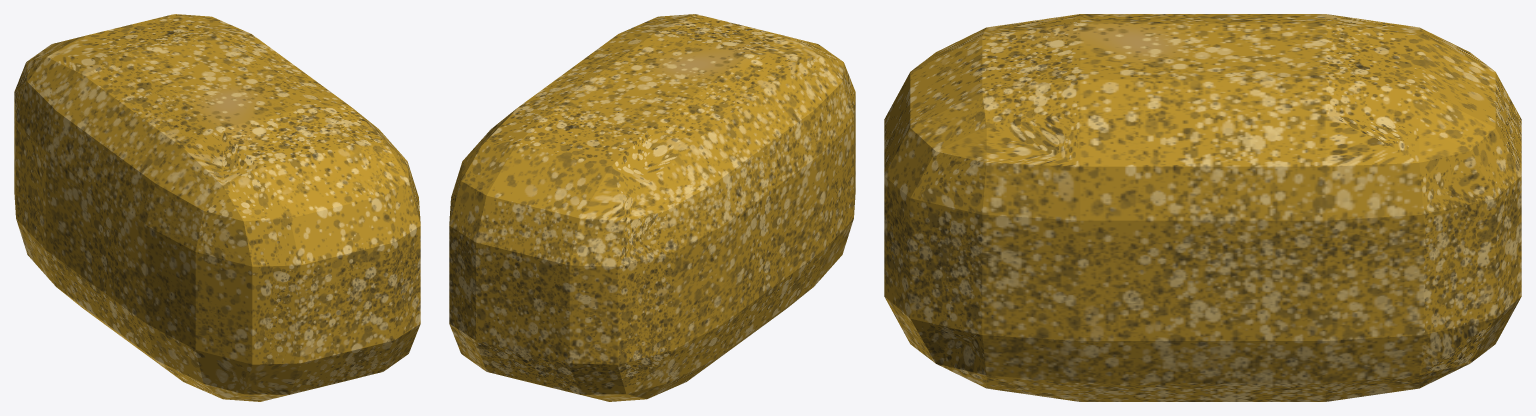
File: Croqueta.fbx
The picture shows the model from 3 angles, left to right: view 1: azimuth 30°, elevation 25°; view 2: azimuth 150°, elevation 25°; view 3: azimuth 270°, elevation 25°; orthographic projection. The views are drawn at different scales.
Parts seen in each view (by area): view 1: Cube; view 2: Cube; view 3: Cube.
Part boxes in pixels (<box>): Cube: <box>14,14,420,401</box>; Cube: <box>449,14,855,401</box>; Cube: <box>884,14,1521,401</box>.
Size of the model in its own units: 200 by 200 by 370.
Materials: 1 (1 with a texture image).
